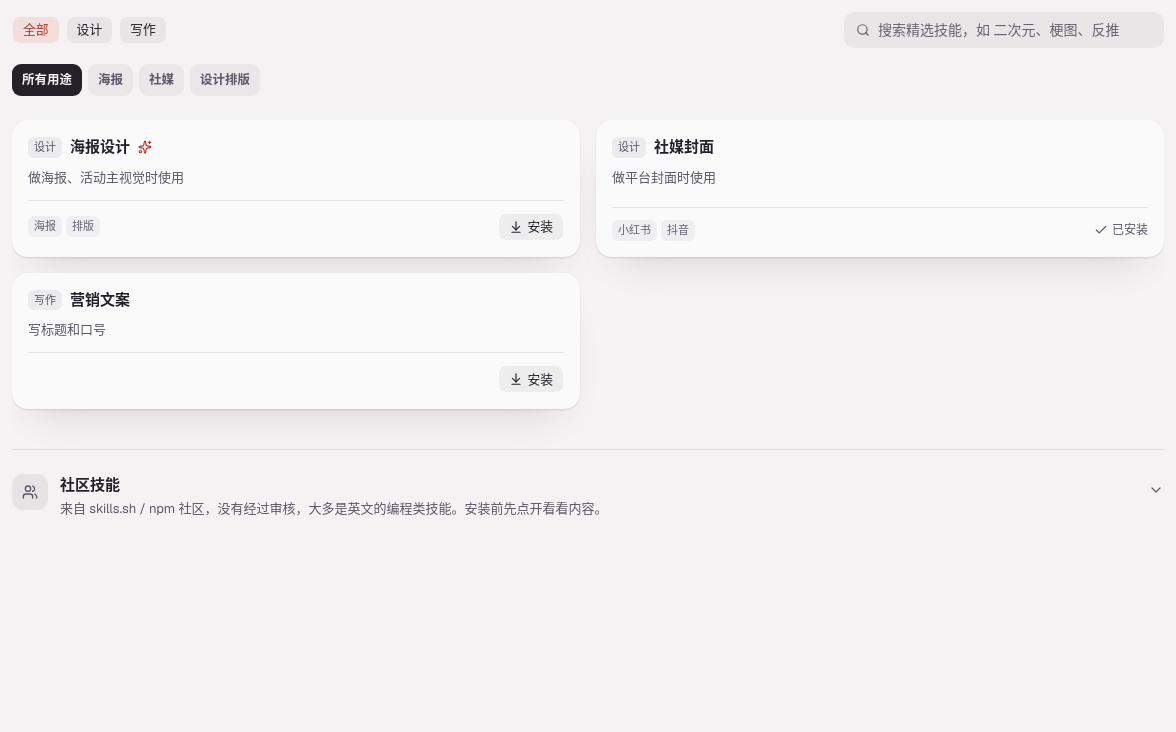
Test: MarketplacePanel › keeps the community search folded and labelled unreviewed
Expected: the field labelled "搜索社区技能" is not shown
Click the button "社区技能 来自 skills.sh / npm 社区，没有经过审核，大多是英文的编程类技能。安装前先点开看看内容。". click: {"x": 30, "y": 492}
box: [12,474,1164,518]
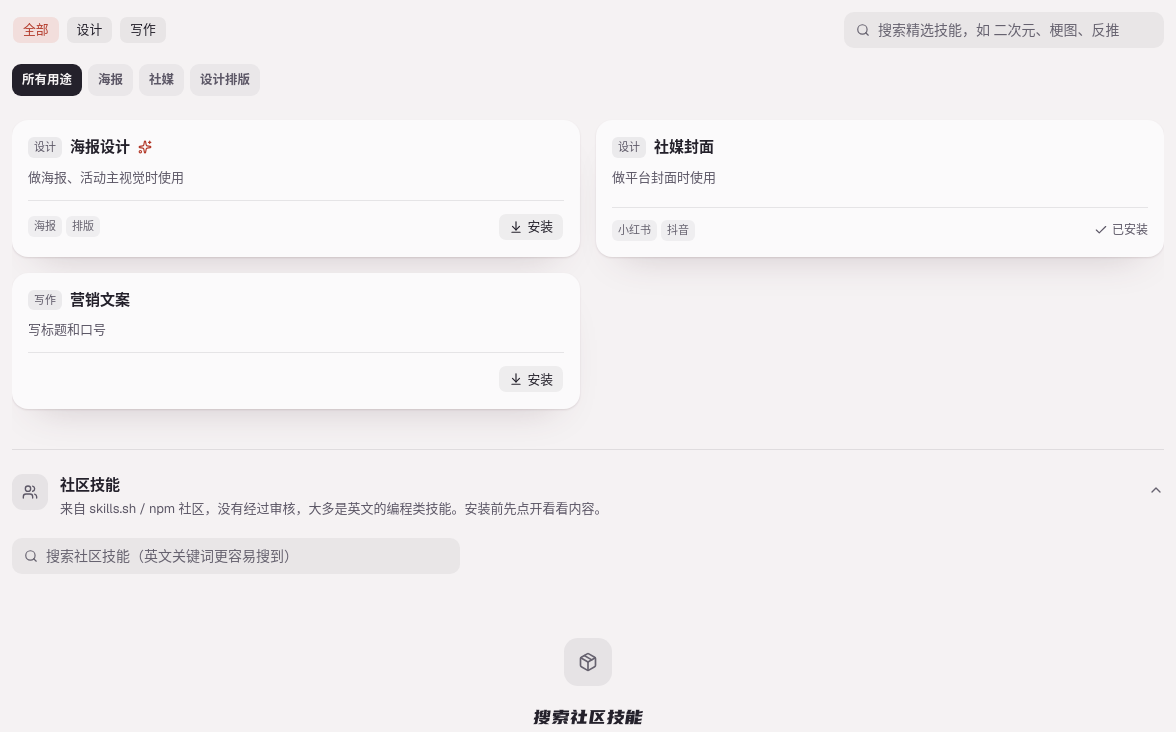
Type "poster" into the search field labelled "搜索社区技能". click: {"x": 236, "y": 556}
box: [12,538,460,574]
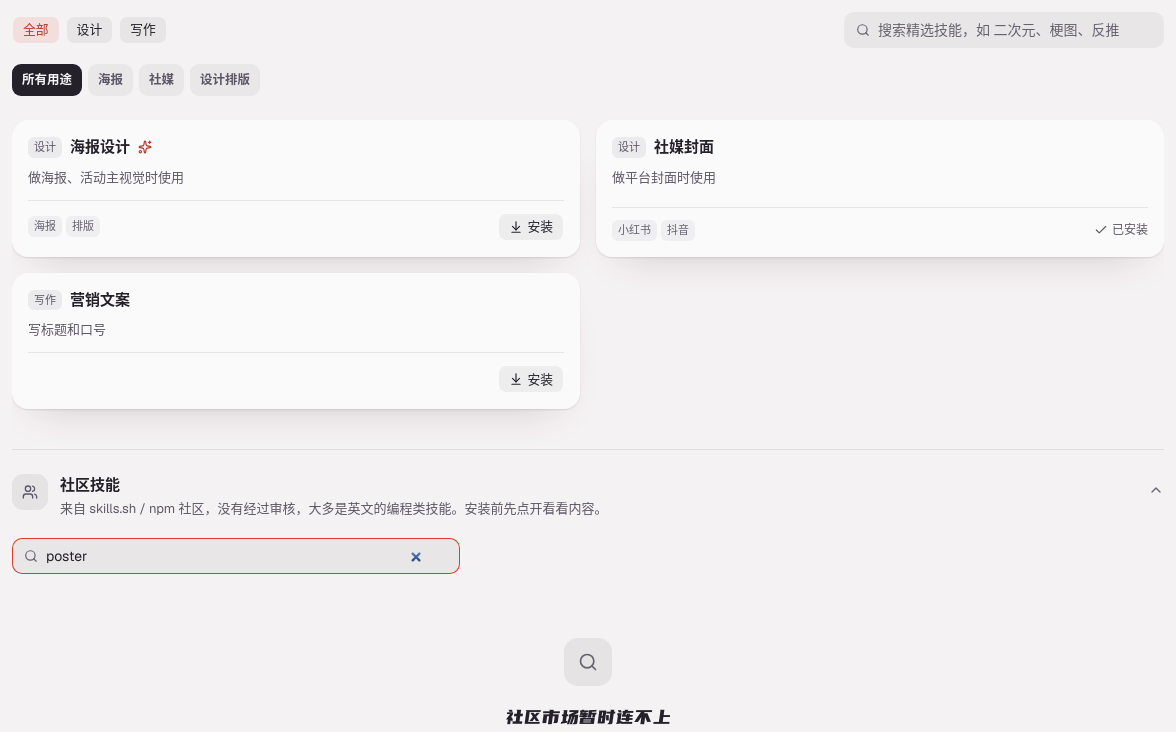
Expected: the text "社区市场暂时连不上" is shown, [505,702,671,731]
